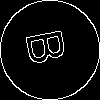B: (25, 25, 76, 67)
